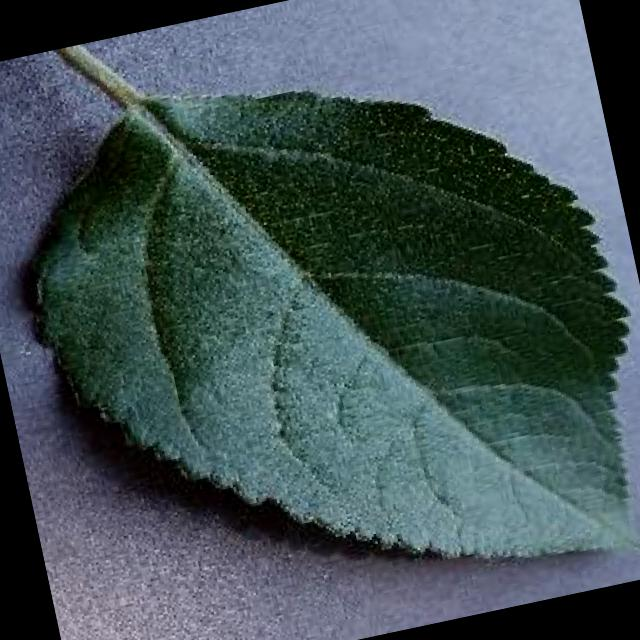healthy: (42, 47, 640, 555)
